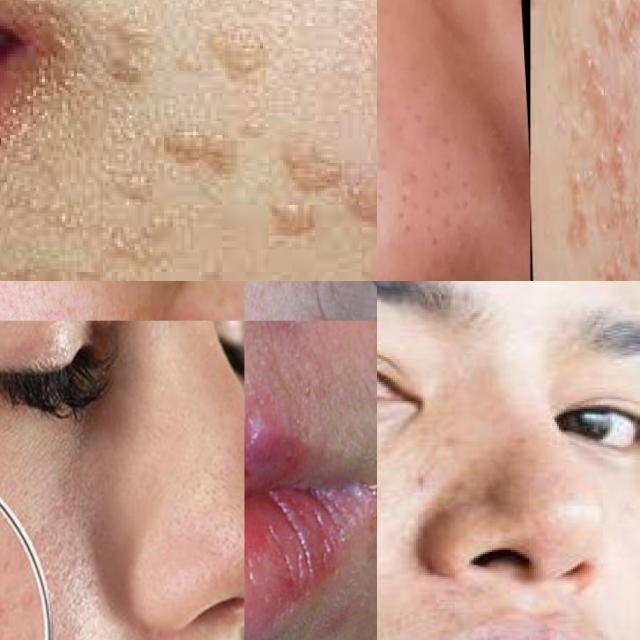comedone: (391, 187, 436, 239), (486, 168, 508, 216)
flat_wart: (561, 123, 640, 281), (147, 102, 278, 182), (254, 135, 348, 240), (573, 0, 640, 114), (170, 23, 279, 93), (97, 0, 168, 93), (0, 252, 165, 281)
papule: (365, 464, 377, 599)
